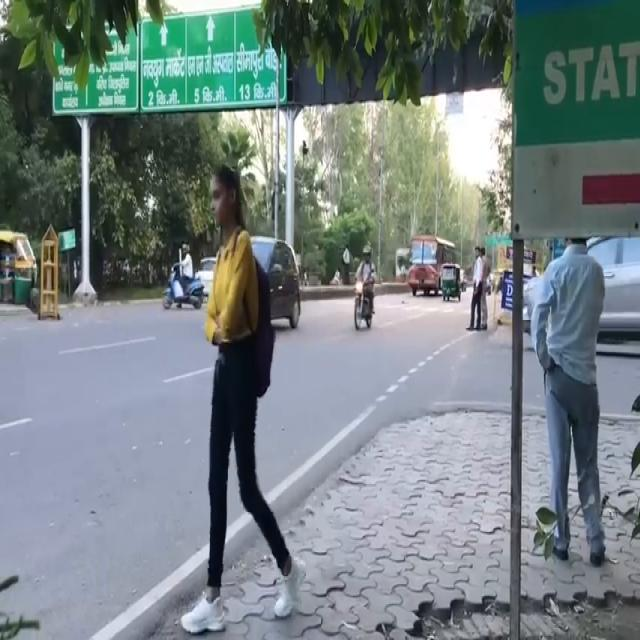BUS: (408, 231, 444, 299)
MOTORCYCLE: (164, 268, 203, 312), (354, 265, 376, 327)
